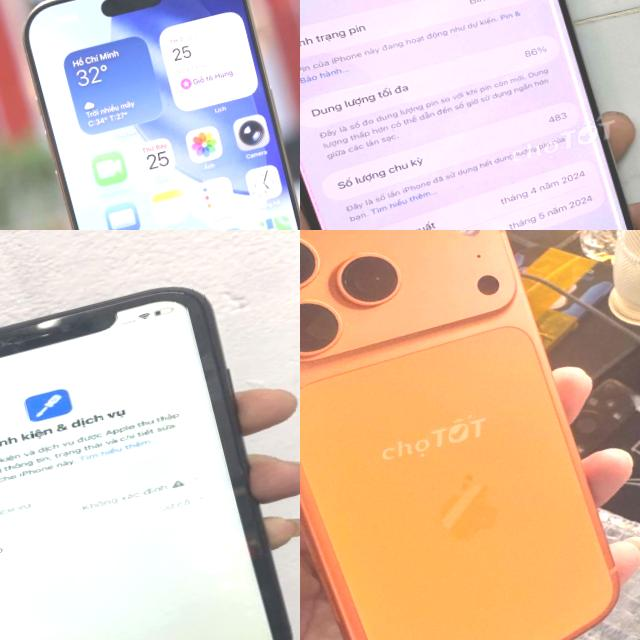gen_15: (300, 0, 640, 230)
gen_16: (0, 0, 300, 230)
gen_17: (300, 230, 640, 640)
gen_x_xs: (0, 268, 300, 640)
screen_defect: (511, 0, 640, 230), (300, 0, 417, 230)
